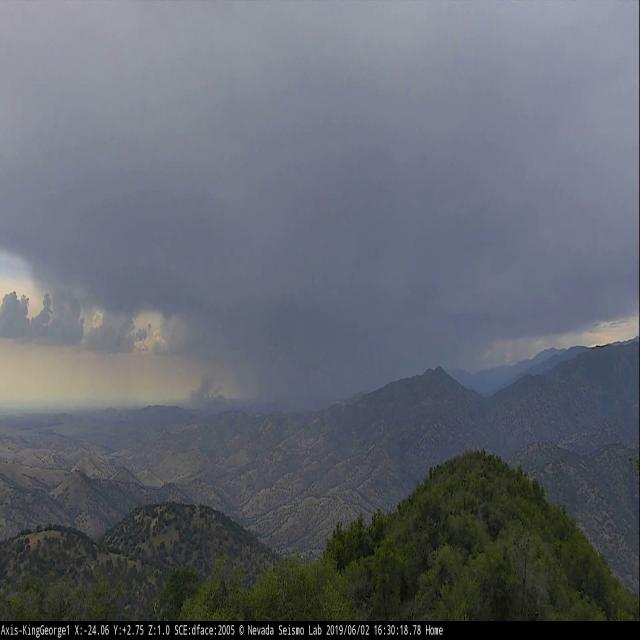smoke: (187, 372, 222, 407)
